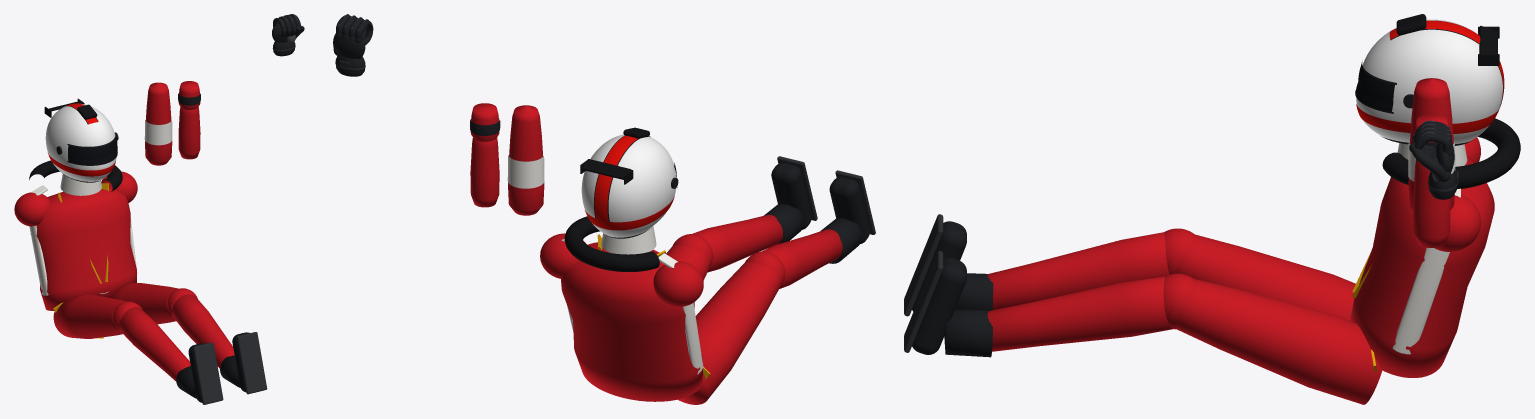
File: driver.glb
The picture shows the model from 3 angles, left to right: view 1: azimuth 30°, elevation 25°; view 2: azimuth 150°, elevation 25°; view 3: azimuth 270°, elevation 25°; orthographic projection. The views are drawn at different scales.
Visible parts, largest first — view 1: Торс, Голень (×2), Бедро (×2), Корпус, Подошва (×2), Рукав, Плечо (×2), Предплечье, Визор, Голенище (×2), Стопа (×2), Колено (×2) (+6 smaller); view 2: Торс, Бедро (×2), Корпус, Голень (×2), Стопа (×2), Плечо (×2), Рукав, HANS, Предплечье, Голенище (×2), Полоса через макушку, Колено (×2) (+8 smaller); view 3: Бедро (×2), Голень (×2), Торс, Корпус, Стопа (×2), Голенище (×2), HANS, Вставка, Подошва (×2), Предплечье, Колено (×2), Рукав (+5 smaller).
Boxes of the visible parts, x1,y1,x2,y2 form: Торс: (30, 187, 136, 310); Голень (×2): (119, 294, 234, 381); Бедро (×2): (53, 283, 178, 338); Корпус: (45, 104, 116, 181); Подошва (×2): (193, 332, 267, 404); Рукав: (145, 82, 172, 165); Плечо (×2): (14, 171, 137, 226); Предплечье: (178, 107, 200, 159); Визор: (68, 136, 117, 164); Голенище (×2): (176, 355, 240, 398); Стопа (×2): (188, 332, 249, 402); Колено (×2): (113, 288, 197, 332); Торс: (561, 242, 702, 401); Бедро (×2): (666, 245, 784, 404); Корпус: (581, 134, 675, 237); Голень (×2): (692, 214, 842, 288); Стопа (×2): (771, 162, 869, 243); Плечо (×2): (540, 233, 703, 306); Рукав: (508, 105, 544, 215); HANS: (564, 216, 659, 271); Предплечье: (470, 137, 499, 207); Голенище (×2): (764, 204, 862, 263); Полоса через макушку: (594, 135, 649, 227); Колено (×2): (672, 234, 785, 286); Бедро (×2): (1167, 234, 1382, 404); Голень (×2): (987, 232, 1172, 351); Торс: (1350, 158, 1494, 377); Корпус: (1356, 19, 1502, 143); Стопа (×2): (912, 221, 966, 354); Голенище (×2): (944, 273, 993, 357); HANS: (1382, 118, 1520, 188); Вставка: (1392, 247, 1449, 354); Подошва (×2): (904, 214, 943, 352); Предплечье: (1413, 159, 1450, 247); Колено (×2): (1163, 228, 1195, 329); Рукав: (1408, 78, 1454, 209).
Size of the model in its own units: 1.09 by 0.9264 by 1.21.
